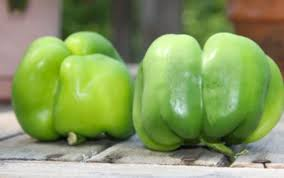bell pepper: (133, 24, 284, 149), (6, 26, 135, 151)
